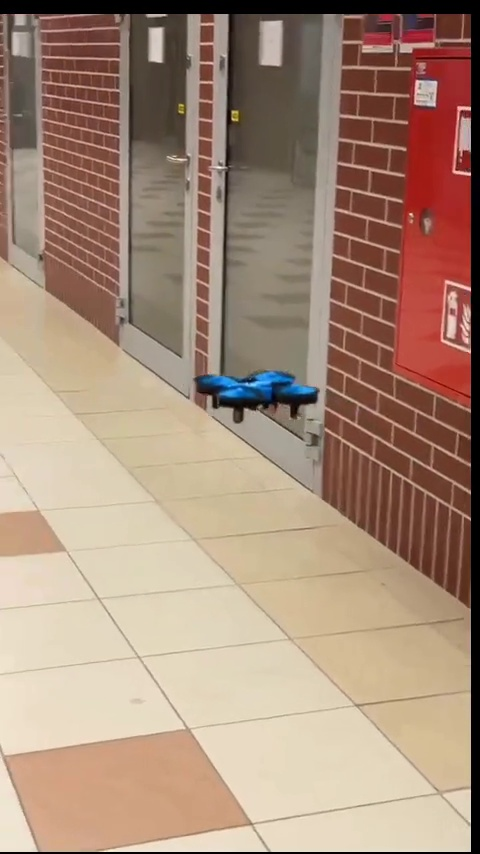drone: (192, 368, 323, 426)
